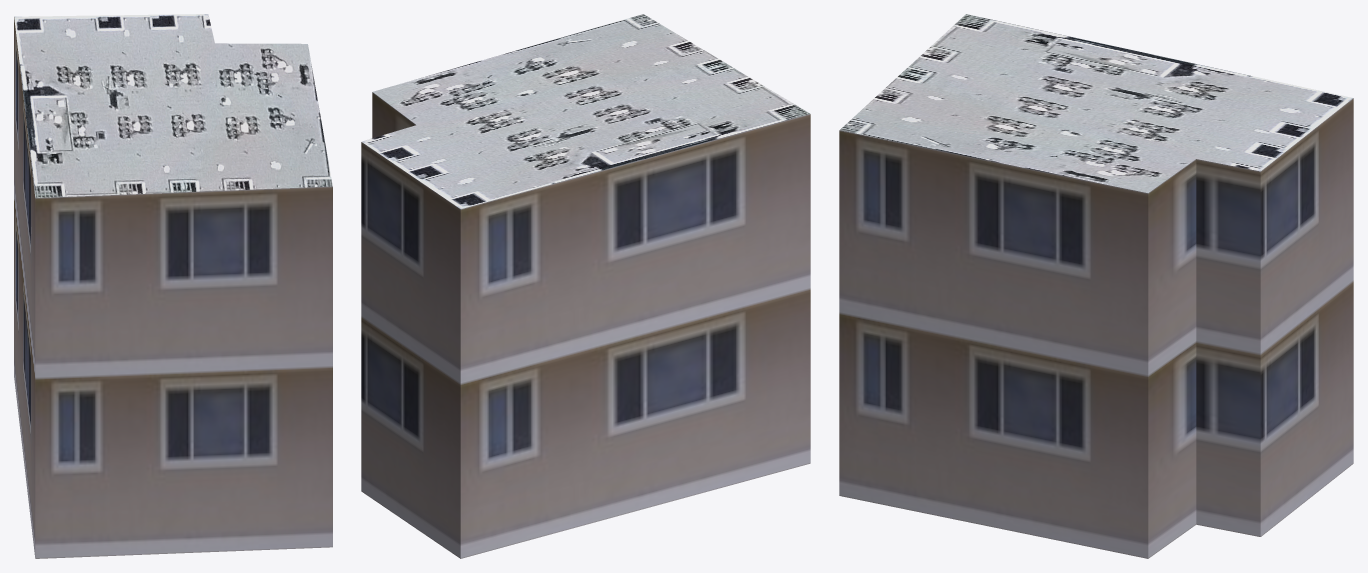
File: ResTex__3167.fbx
3 renders of one model, left to right at view 1: azimuth 30°, elevation 25°; view 2: azimuth 150°, elevation 25°; view 3: azimuth 270°, elevation 25°, orthographic. The views are drawn at different scales.
Visible parts, largest first — view 1: CityEngineMaterial_21_m, CityEngineMaterial_2_m; view 2: CityEngineMaterial_21_m, CityEngineMaterial_2_m; view 3: CityEngineMaterial_21_m, CityEngineMaterial_2_m.
Boxes of the visible parts, bbox=[...] form: CityEngineMaterial_21_m: bbox=[14, 17, 332, 558]; CityEngineMaterial_2_m: bbox=[14, 14, 332, 197]; CityEngineMaterial_21_m: bbox=[361, 92, 810, 558]; CityEngineMaterial_2_m: bbox=[361, 14, 810, 208]; CityEngineMaterial_21_m: bbox=[839, 98, 1353, 558]; CityEngineMaterial_2_m: bbox=[840, 14, 1352, 192].
Size of the model in its own units: 6.31 by 6 by 7.64.
Materials: 2 (2 with a texture image).
